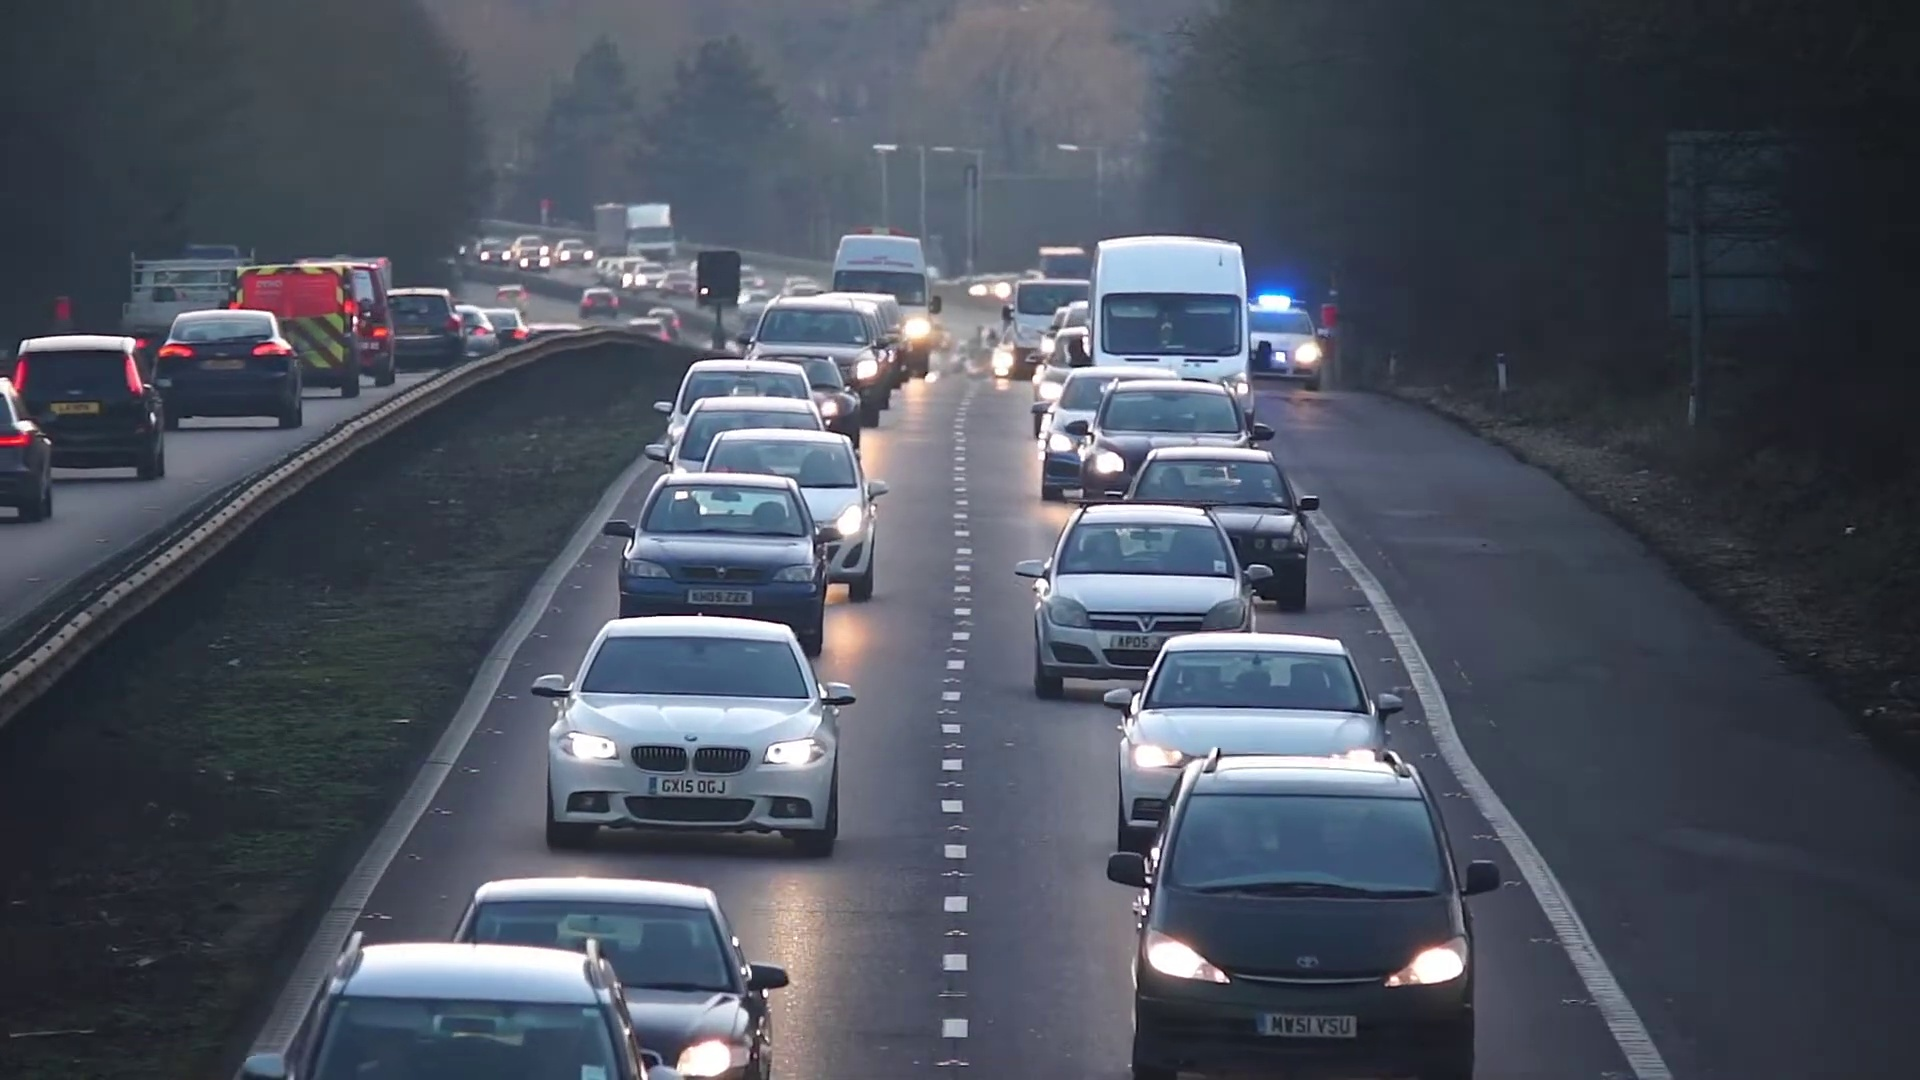license_plate: (1259, 1007, 1363, 1040), (652, 773, 737, 803), (681, 586, 754, 610), (1109, 629, 1157, 652)
